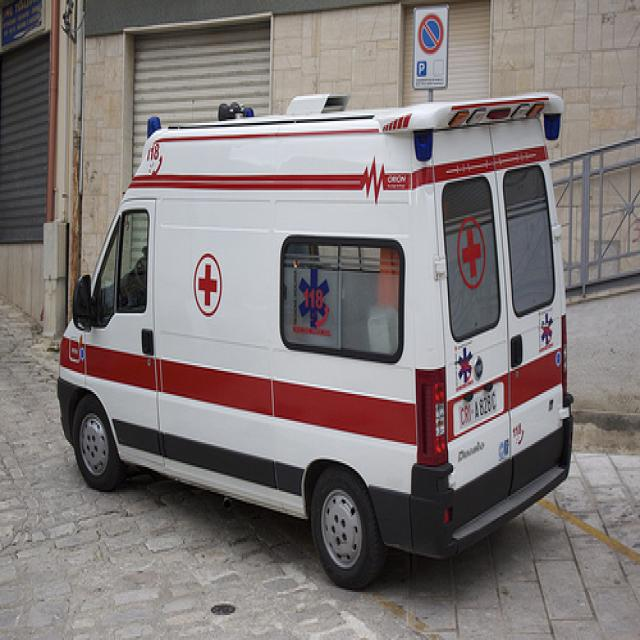emergency-vehicle: (61, 90, 574, 598)
